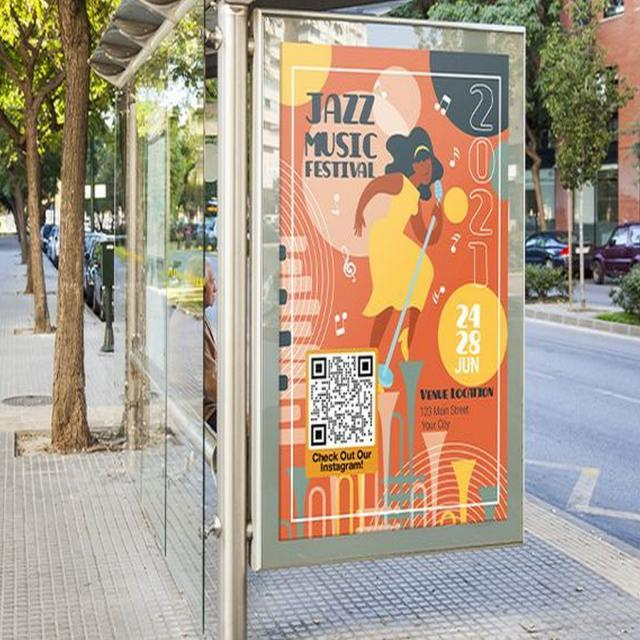qr_code: (310, 353, 374, 446)
